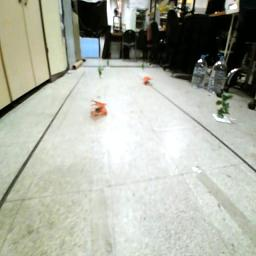herb: (217, 94, 232, 119), (98, 67, 105, 77)
wild: (93, 100, 109, 117), (144, 77, 152, 85)
